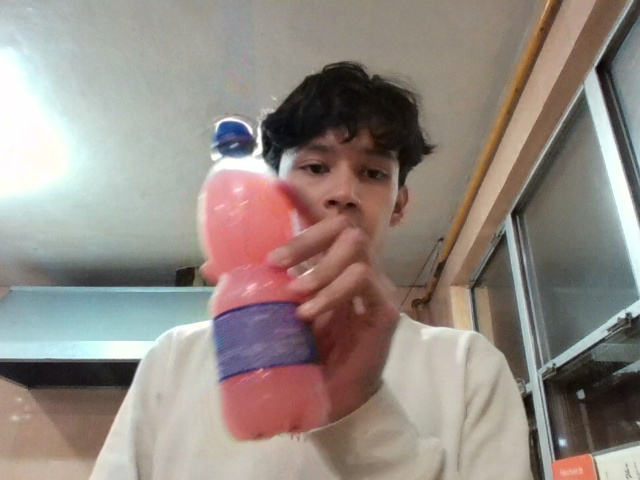botella: (122, 86, 367, 480)
